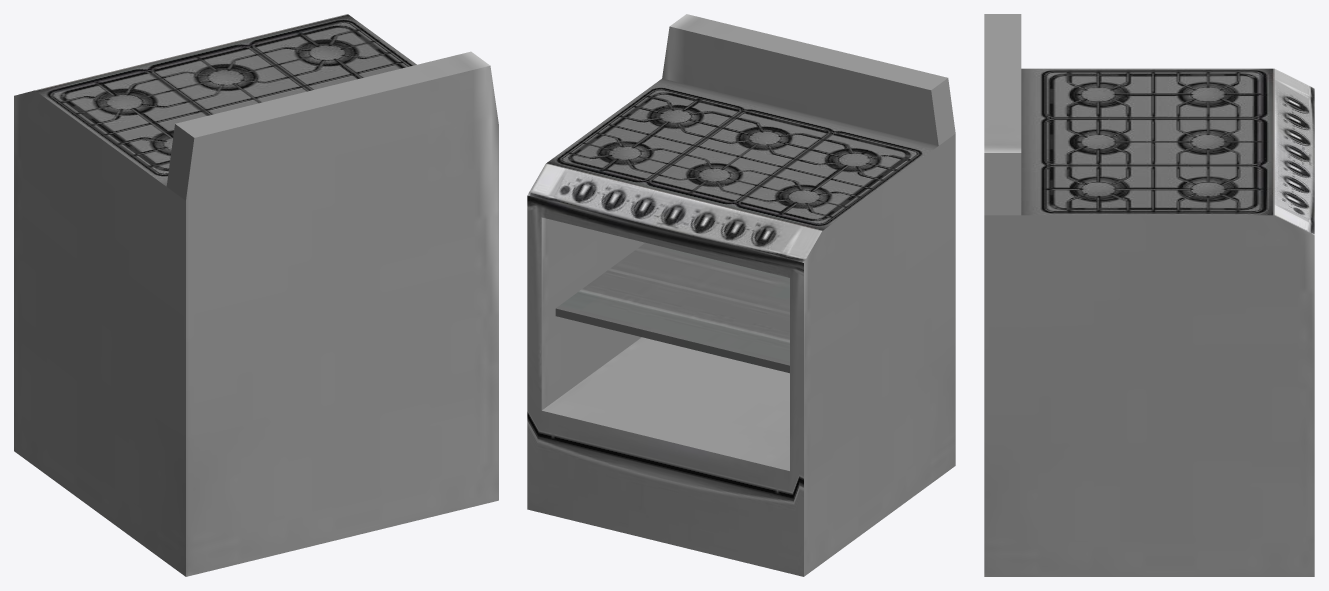
Rendered from Stove_03.glb.
The picture shows the model from 3 angles, left to right: view 1: azimuth 30°, elevation 25°; view 2: azimuth 150°, elevation 25°; view 3: azimuth 270°, elevation 25°; orthographic projection. The views are drawn at different scales.
Visible parts, largest first — view 1: Stove_03; view 2: Stove_03; view 3: Stove_03.
Part boxes in pixels (x1,y1,x2,y2): Stove_03: [14, 14, 498, 576]; Stove_03: [527, 14, 955, 576]; Stove_03: [984, 14, 1314, 576].
Bounding box in the file's own units: 0.9088 × 1.21 × 0.8643.
Materials: 1 (1 with a texture image).
